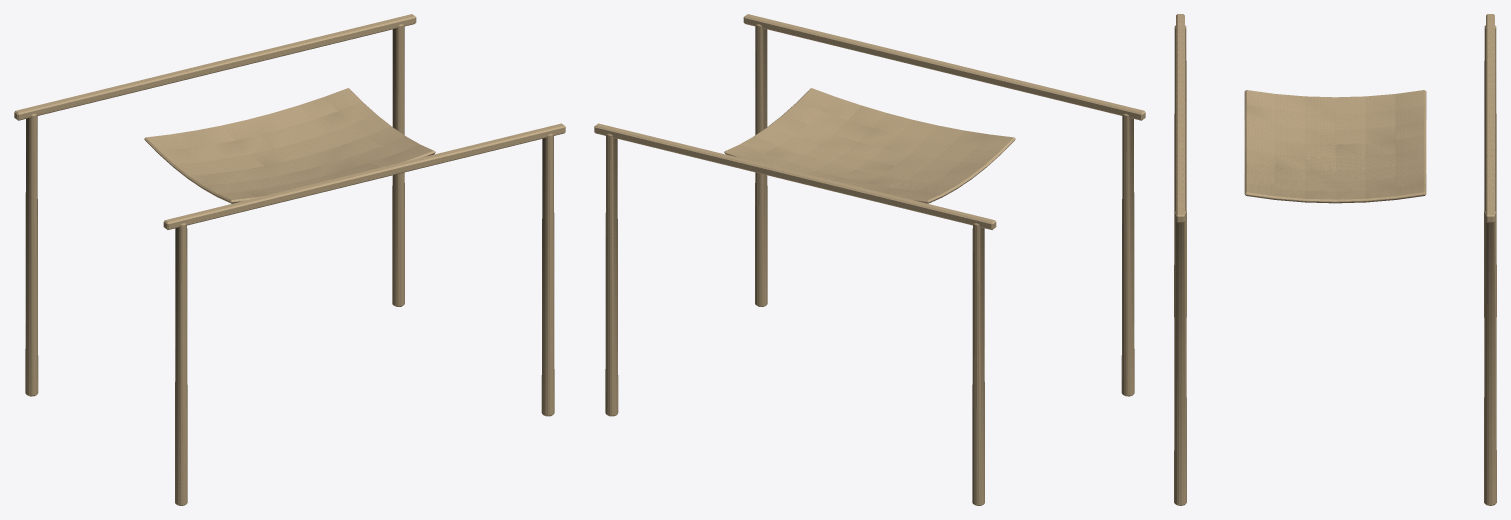
The model's file is p_awning.glb.
3 views of the same model, side by side, from view 1: azimuth 30°, elevation 25°; view 2: azimuth 150°, elevation 25°; view 3: azimuth 270°, elevation 25° (orthographic). The views are drawn at different scales.
Parts seen in each view (by area): view 1: awning; view 2: awning; view 3: awning.
Boxes of the visible parts, x1,y1,x2,y2 form: awning: (14, 14, 565, 505); awning: (594, 14, 1145, 505); awning: (1174, 14, 1496, 505).
Size of the model in its own units: 3.7 by 2.54 by 2.5.
Materials: 1 (1 with a texture image).
